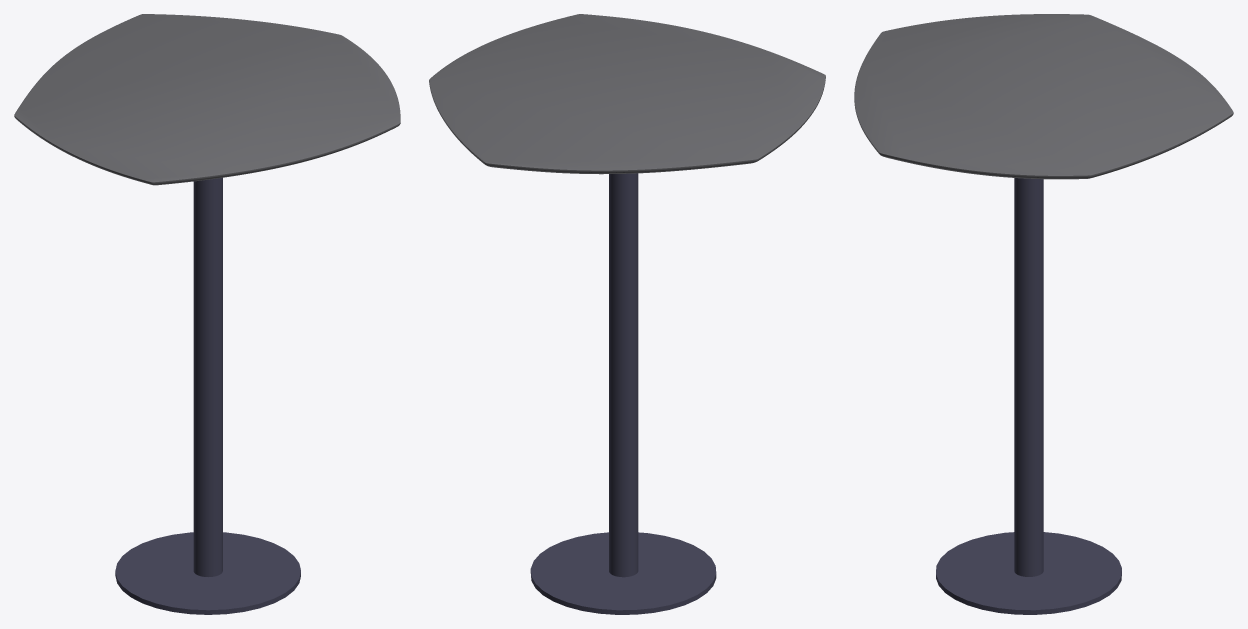
File: Mirima-Table_Haute_NUBO-3D.FBX
3 renders of one model, left to right at view 1: azimuth 30°, elevation 25°; view 2: azimuth 150°, elevation 25°; view 3: azimuth 270°, elevation 25°, orthographic.
Parts seen in each view (by area): view 1: MRM010002 Table Haute NUBO Object by Polantis 2013; view 2: MRM010002 Table Haute NUBO Object by Polantis 2013; view 3: MRM010002 Table Haute NUBO Object by Polantis 2013.
Part boxes in pixels (x1,y1,x2,y2): MRM010002 Table Haute NUBO Object by Polantis 2013: (14, 14, 400, 614); MRM010002 Table Haute NUBO Object by Polantis 2013: (429, 14, 825, 614); MRM010002 Table Haute NUBO Object by Polantis 2013: (854, 14, 1233, 614).
Bounding box in the file's own units: 0.8729 × 0.8641 × 1.21.
